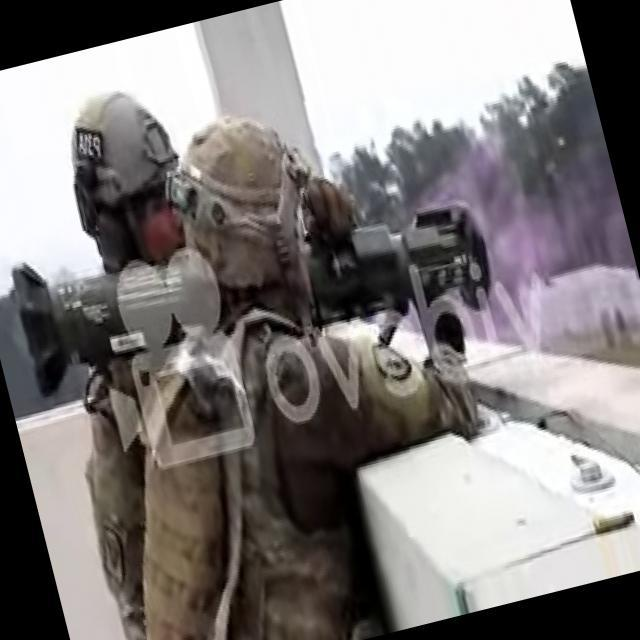rocket: (9, 157, 496, 415)
